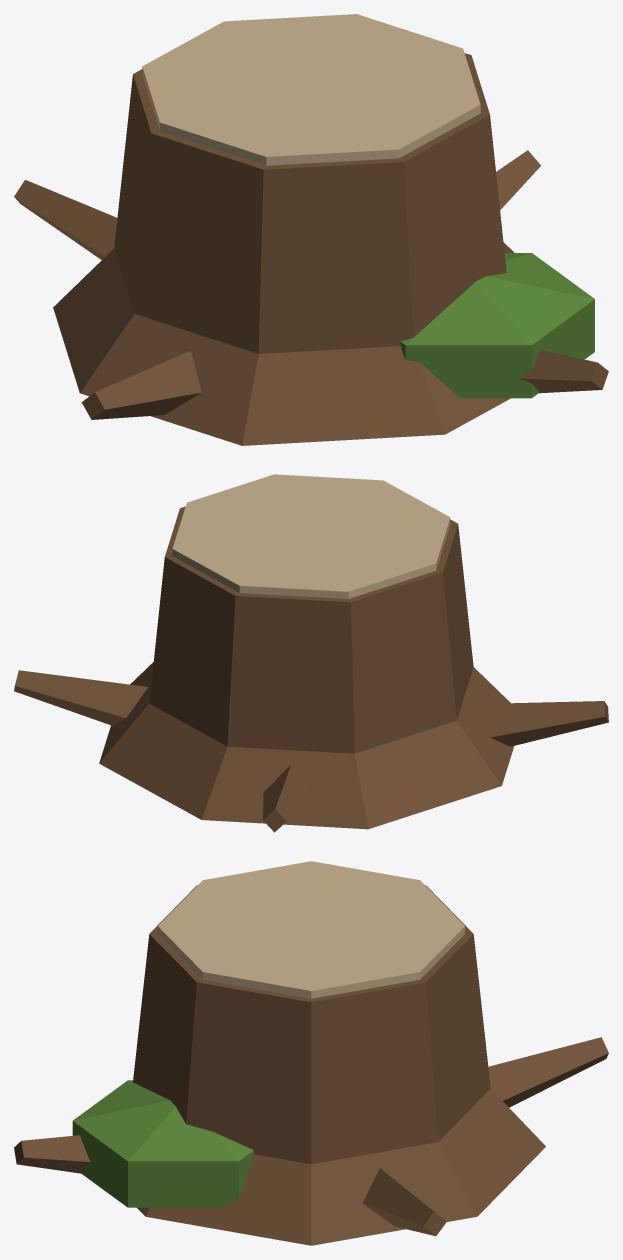
Rendered from stump.glb.
3 views of the same model, one above another, from view 1: azimuth 30°, elevation 25°; view 2: azimuth 150°, elevation 25°; view 3: azimuth 270°, elevation 25° (orthographic). The views are drawn at different scales.
Visible parts, largest first — view 1: stump; view 2: stump; view 3: stump.
Boxes of the visible parts, box(x1,y1,x2,y2) form: stump: box(14, 14, 608, 445); stump: box(14, 474, 608, 832); stump: box(14, 861, 608, 1245).
Size of the model in its own units: 1.39 by 0.6676 by 1.39.
